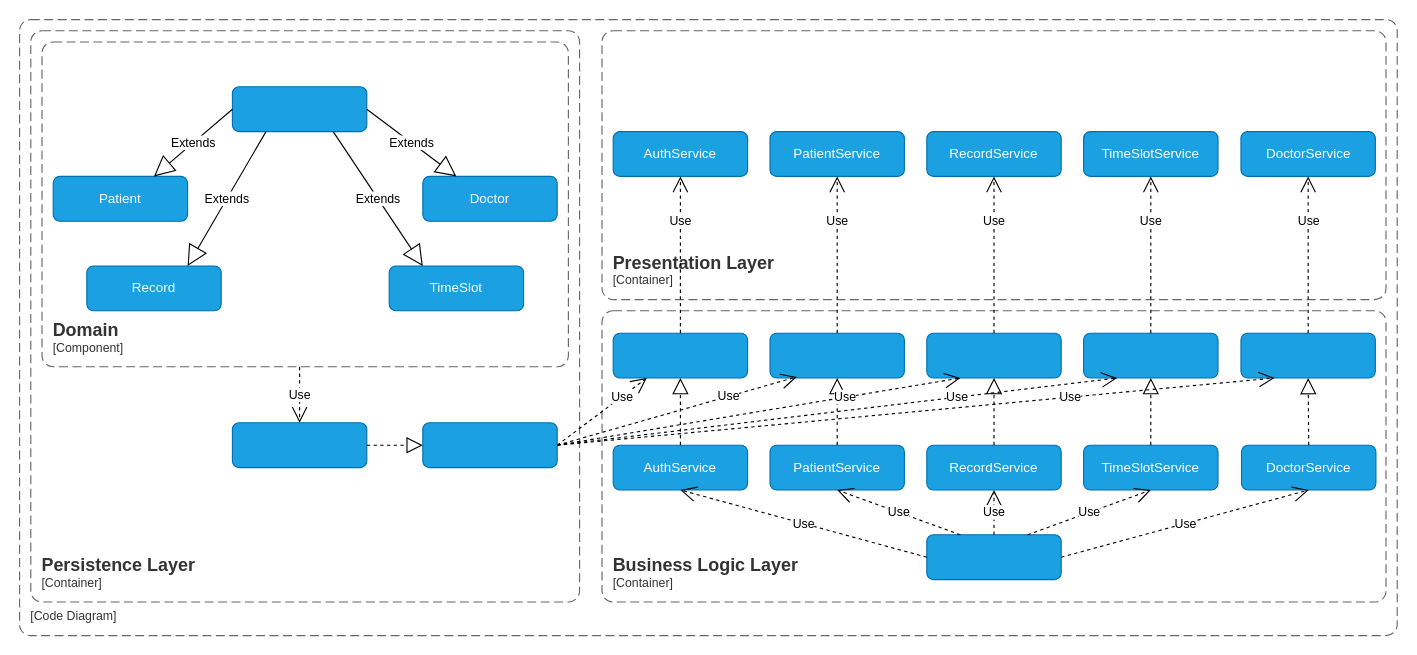
This 1417x655 diagram has some shape labels left out. Here are the shapes that lost their labels. From the top down, the centre of each, then its label:
At [299,109]: "EntityBase".
At [680,355]: "IAuthService".
At [836,355]: "IPatientService".
At [993,355]: "IRecordService".
At [1150,355]: "ITimeSlotService".
At [1307,355]: "IDoctorService".
At [299,445]: "GenrericRepository".
At [489,445]: "IGenericRepository".
At [993,557]: "Mapper".
